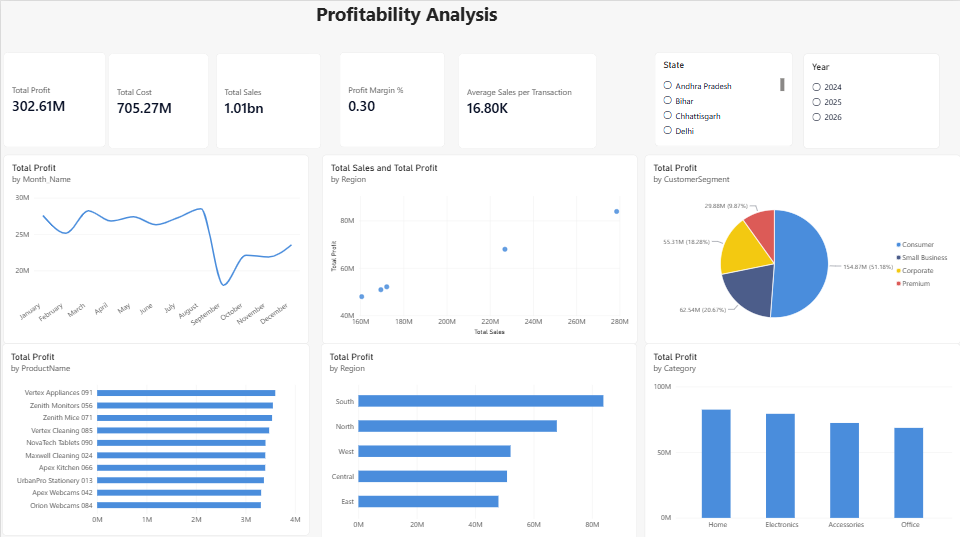

This screenshot's page, from the dashboard's own definition file:
{"tool":"powerbi","page":{"name":"Profitability Analysis","canvas":[1920,1080],"ordinal":1},"visuals":[{"type":"cardVisual","fields":{"Data":["FactSales.Total Profit"]},"box":[6,102,204,190],"z":0},{"type":"cardVisual","fields":{"Data":["FactSales.Total Cost"]},"box":[216,104,200,190],"z":1000},{"type":"cardVisual","fields":{"Data":["FactSales.Profit Margin %"]},"box":[678,102,210,190],"z":2000},{"type":"cardVisual","fields":{"Data":["FactSales.Average Sales per Transaction"]},"box":[916,104,276,190],"z":3000},{"type":"lineChart","fields":{"Category":["DimDate.Month_Name"],"Y":["FactSales.Total Profit"]},"box":[6,308,610,378],"z":4000},{"type":"clusteredBarChart","fields":{"Category":["DimRegion.Region"],"Y":["FactSales.Total Profit"]},"box":[640,686,632,394],"z":5000},{"type":"clusteredColumnChart","fields":{"Category":["DimProduct.Category"],"Y":["FactSales.Total Profit"]},"box":[1288,686,632,394],"z":6000},{"type":"clusteredBarChart","fields":{"Category":["DimProduct.ProductName"],"Y":["FactSales.Total Profit"]},"box":[2,686,614,384],"z":7000},{"type":"pieChart","fields":{"Category":["DimCustomer.CustomerSegment"],"Y":["FactSales.Total Profit"]},"box":[1288,308,632,378],"z":8000},{"type":"scatterChart","fields":{"Category":["DimRegion.Region"],"X":["FactSales.Total Sales"],"Y":["FactSales.Total Profit"]},"box":[642,308,630,378],"z":9000},{"type":"listSlicer","fields":{"Values":["DimCustomer.State"]},"box":[1308,102,276,188],"z":10000},{"type":"listSlicer","fields":{"Values":["DimDate.Year"]},"box":[1604,104,272,190],"z":11000},{"type":"cardVisual","fields":{"Data":["FactSales.Total Sales"]},"box":[430,104,210,190],"z":12000},{"type":"textbox","box":[630,0,516,74],"z":13000}]}

Visuals, with their boxes in screenshot pixels (x1, y1, x2, y2), scaled from the page's 1920x1080 canvas onto the 960x537 screenshot:
cardVisual - FactSales.Total Profit: detection(3, 51, 105, 145)
cardVisual - FactSales.Total Cost: detection(108, 52, 208, 146)
cardVisual - FactSales.Profit Margin %: detection(339, 51, 444, 145)
cardVisual - FactSales.Average Sales per Transaction: detection(458, 52, 596, 146)
lineChart - DimDate.Month_Name x FactSales.Total Profit: detection(3, 153, 308, 341)
clusteredBarChart - DimRegion.Region x FactSales.Total Profit: detection(320, 341, 636, 536)
clusteredColumnChart - DimProduct.Category x FactSales.Total Profit: detection(644, 341, 959, 536)
clusteredBarChart - DimProduct.ProductName x FactSales.Total Profit: detection(1, 341, 308, 532)
pieChart - DimCustomer.CustomerSegment x FactSales.Total Profit: detection(644, 153, 959, 341)
scatterChart - DimRegion.Region x FactSales.Total Sales: detection(321, 153, 636, 341)
listSlicer - DimCustomer.State: detection(654, 51, 792, 144)
listSlicer - DimDate.Year: detection(802, 52, 938, 146)
cardVisual - FactSales.Total Sales: detection(215, 52, 320, 146)
textbox: detection(315, 0, 573, 37)
